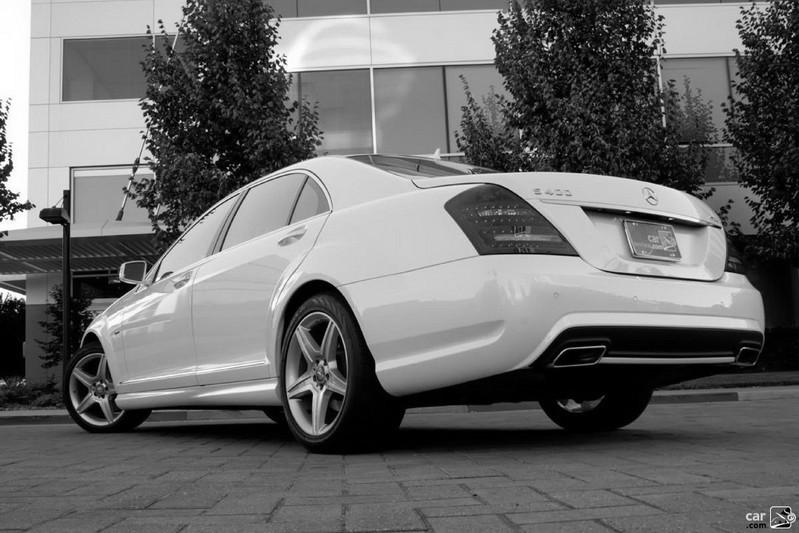car: (65, 149, 766, 454)
